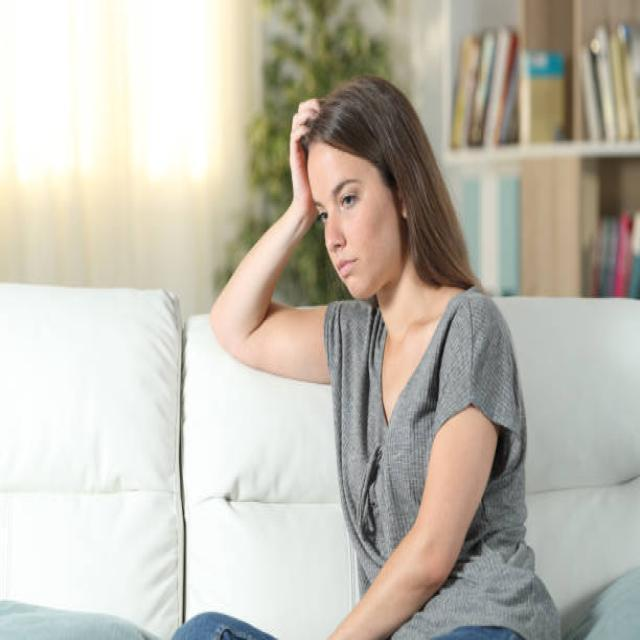Looking away: (308, 142, 386, 302)
